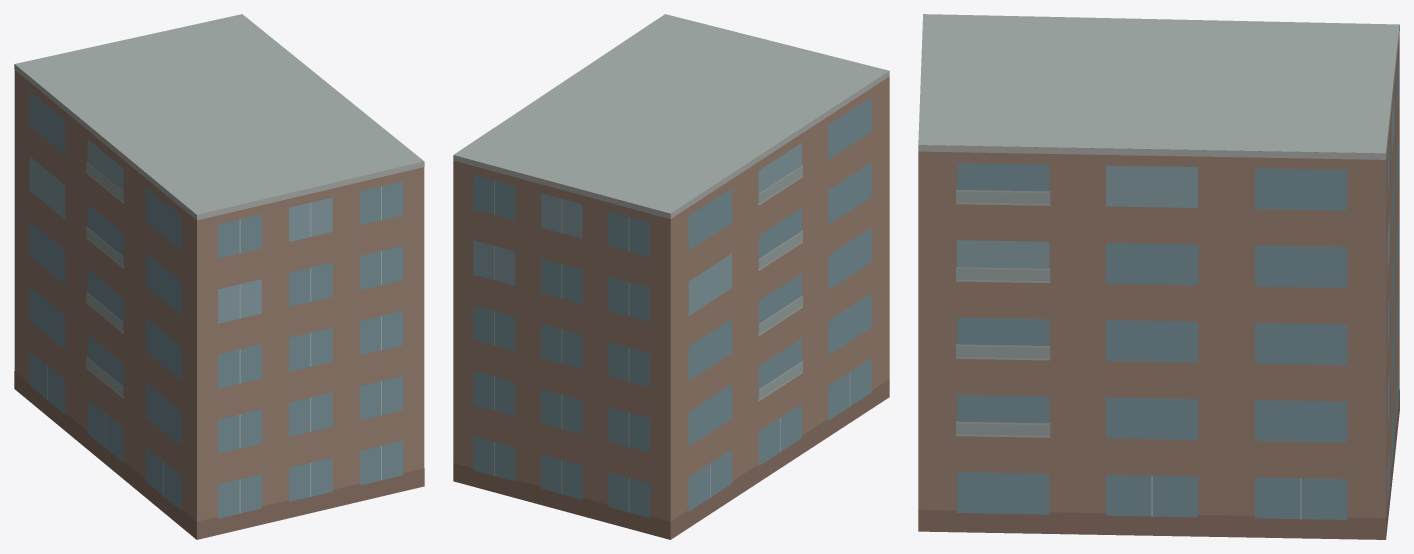
File: survey-upis-32760622.glb
The picture shows the model from 3 angles, left to right: view 1: azimuth 30°, elevation 25°; view 2: azimuth 150°, elevation 25°; view 3: azimuth 270°, elevation 25°; orthographic projection. The views are drawn at different scales.
Visible parts, largest first — view 1: survey-upis-32760622.tmp; view 2: survey-upis-32760622.tmp; view 3: survey-upis-32760622.tmp.
Boxes of the visible parts, x1,y1,x2,y2 form: survey-upis-32760622.tmp: [14, 14, 424, 539]; survey-upis-32760622.tmp: [453, 14, 889, 539]; survey-upis-32760622.tmp: [918, 14, 1399, 539].
Bounding box in the file's own units: 11.06 × 14.3 × 16.15.
